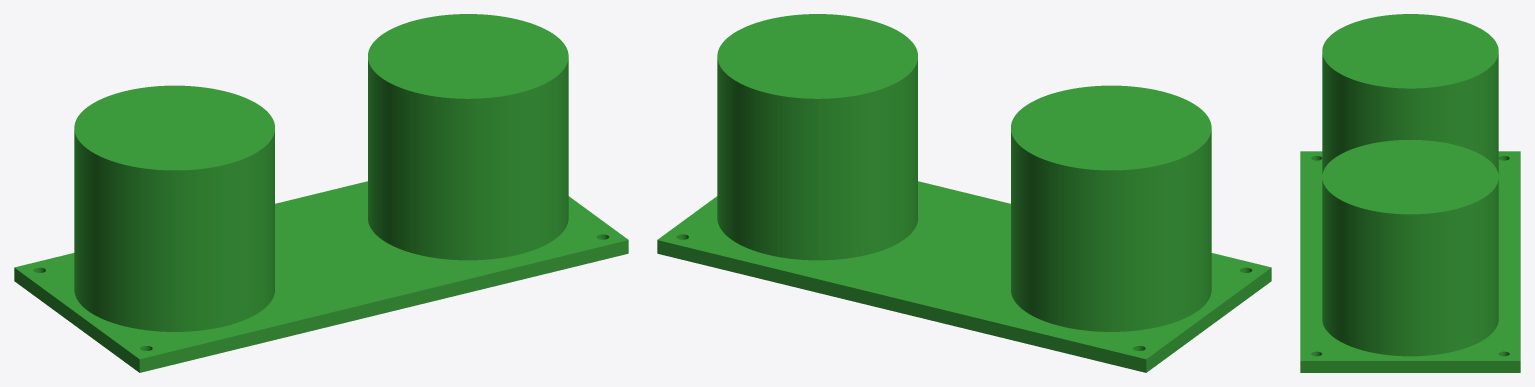
3 views of the same model, side by side, from view 1: azimuth 30°, elevation 25°; view 2: azimuth 150°, elevation 25°; view 3: azimuth 270°, elevation 25° (orthographic). The views are drawn at different scales.
Visible parts, largest first — view 1: out; view 2: out; view 3: out.
Part boxes in pixels (<box>): out: <box>14,14,628,372</box>; out: <box>657,14,1271,372</box>; out: <box>1300,14,1520,372</box>.
Bounding box in the file's own units: 0.045 × 0.0154 × 0.02.
